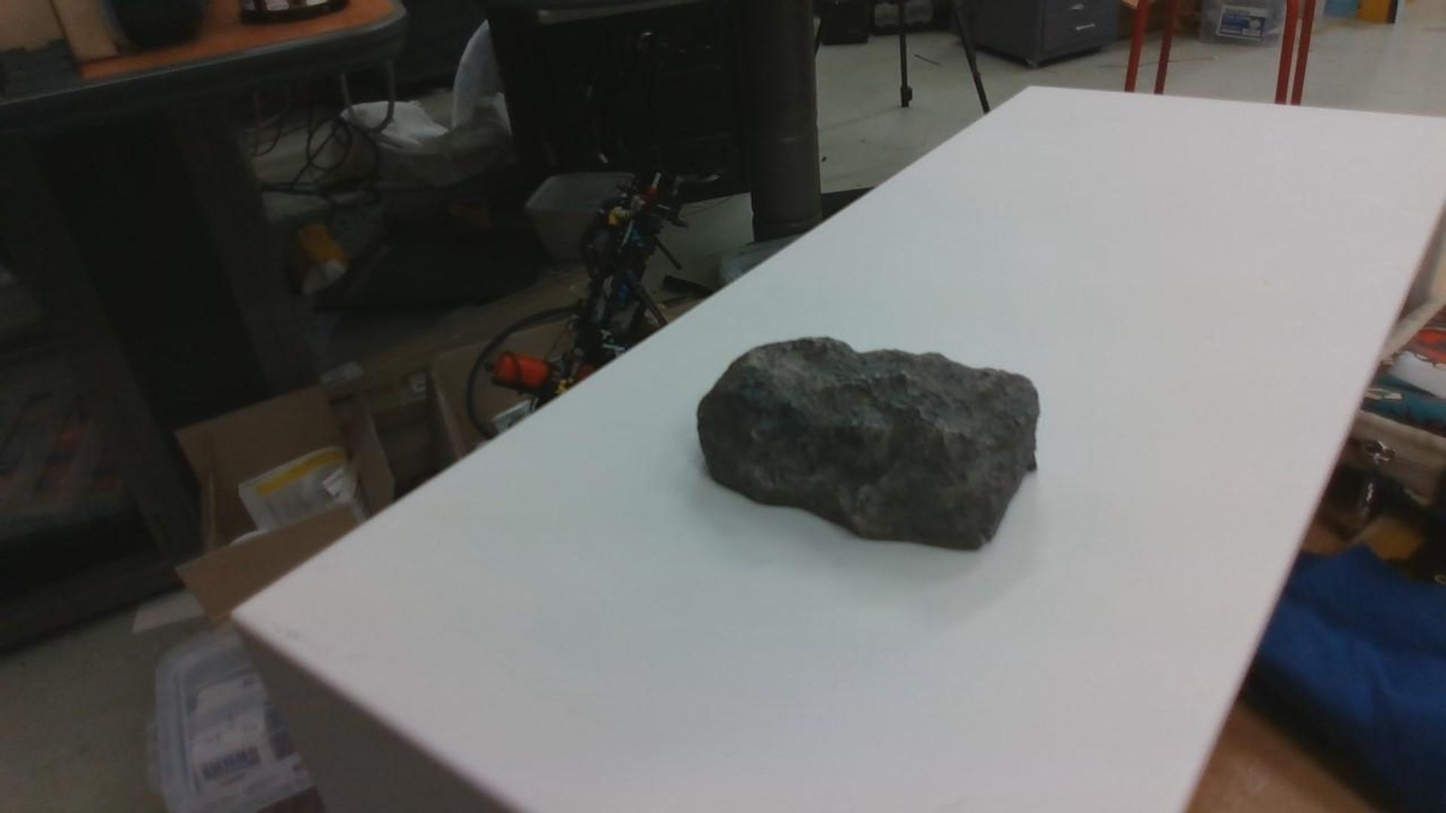rock: (697, 336, 1038, 549)
